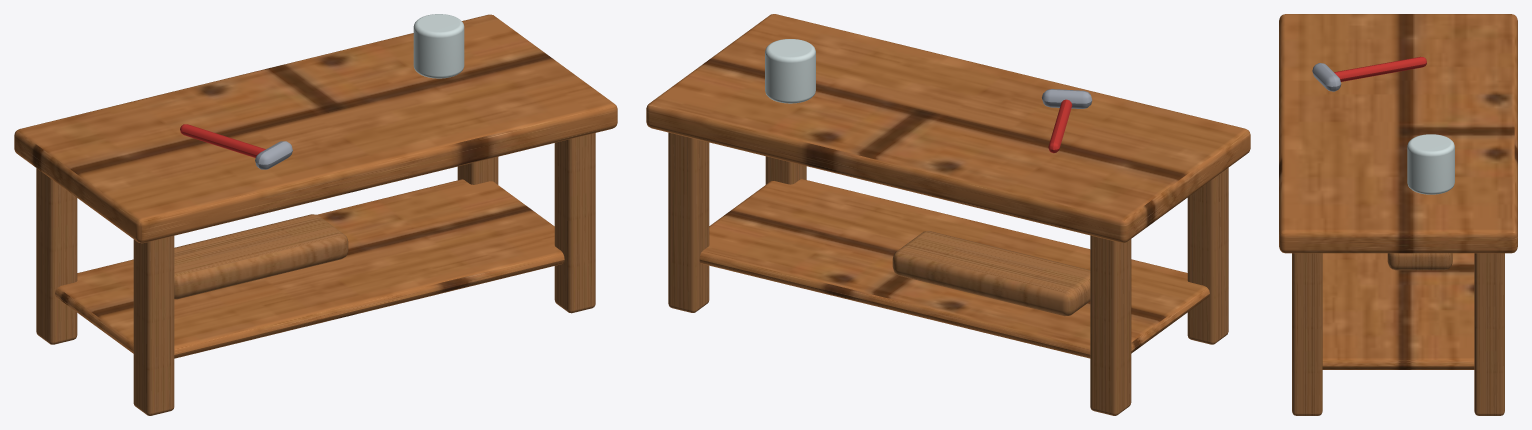
Rendered from workbench.glb.
3 views of the same model, side by side, from view 1: azimuth 30°, elevation 25°; view 2: azimuth 150°, elevation 25°; view 3: azimuth 270°, elevation 25° (orthographic). The views are drawn at different scales.
Parts seen in each view (by area): view 1: top, shelf, plank_stack, leg, leg.002, leg.001, jar, hammer_handle, leg.003, hammer_head; view 2: top, shelf, plank_stack, leg.001, leg.003, leg, jar, leg.002, hammer_head, hammer_handle; view 3: top, shelf, leg.002, leg.003, jar, plank_stack, hammer_handle, hammer_head.
Part boxes in pixels (left/top/right/bottom): top: left=14, top=14, right=617, bottom=243; shelf: left=55, top=179, right=564, bottom=358; plank_stack: left=174, top=214, right=348, bottom=299; leg: left=133, top=236, right=174, bottom=415; leg.002: left=554, top=133, right=595, bottom=313; leg.001: left=36, top=168, right=77, bottom=344; jar: left=413, top=14, right=464, bottom=78; hammer_handle: left=180, top=124, right=265, bottom=157; leg.003: left=457, top=157, right=498, bottom=184; hammer_head: left=255, top=141, right=292, bottom=169; top: left=646, top=14, right=1250, bottom=242; shelf: left=699, top=179, right=1209, bottom=358; plank_stack: left=892, top=231, right=1090, bottom=316; leg.001: left=1090, top=235, right=1131, bottom=415; leg.003: left=668, top=132, right=709, bottom=312; leg: left=1187, top=168, right=1228, bottom=344; jar: left=765, top=39, right=815, bottom=103; leg.002: left=765, top=156, right=806, bottom=184; hammer_head: left=1042, top=89, right=1092, bottom=108; hammer_handle: left=1048, top=99, right=1072, bottom=153; top: left=1279, top=14, right=1517, bottom=253; shelf: left=1322, top=253, right=1474, bottom=369; leg.002: left=1292, top=253, right=1322, bottom=415; leg.003: left=1474, top=253, right=1504, bottom=415; jar: left=1407, top=134, right=1454, bottom=194; plank_stack: left=1387, top=253, right=1452, bottom=270; hammer_handle: left=1334, top=56, right=1426, bottom=81; hammer_head: left=1312, top=63, right=1341, bottom=91.
Bounding box in the file's own units: 2.4 × 1.2 × 1.1.
5 materials, 2 textured.
